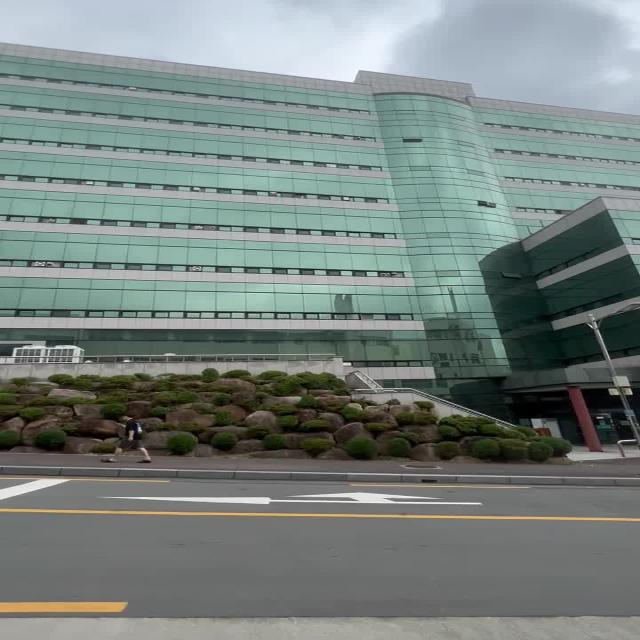building: (7, 46, 640, 352)
